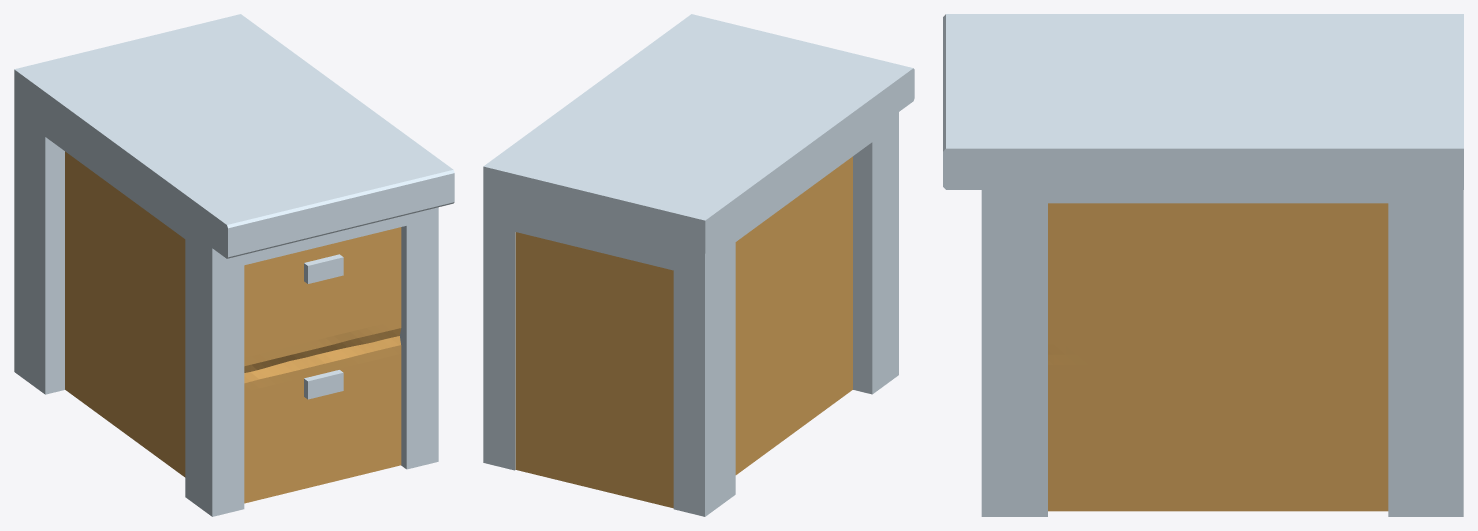
The model's file is Game cabinet.glb.
The picture shows the model from 3 angles, left to right: view 1: azimuth 30°, elevation 25°; view 2: azimuth 150°, elevation 25°; view 3: azimuth 270°, elevation 25°; orthographic projection. The views are drawn at different scales.
Visible parts, largest first — view 1: Box, Ctop, Frame, Handles; view 2: Box, Ctop, Frame; view 3: Box, Ctop, Frame.
Part boxes in pixels (box(x1,y1,x2,y2)): Box: box(65, 151, 401, 503); Ctop: box(14, 14, 454, 258); Frame: box(14, 103, 438, 516); Handles: box(304, 254, 343, 399); Box: box(515, 156, 852, 508); Ctop: box(483, 14, 914, 253); Frame: box(483, 112, 898, 516); Box: box(1048, 203, 1388, 511); Ctop: box(943, 14, 1463, 189); Frame: box(981, 190, 1463, 516).
Size of the model in its own units: 0.5601 by 0.7147 by 0.9156.
